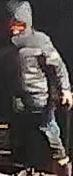gloves: (58, 84, 73, 111)
vest: (3, 31, 58, 115)
